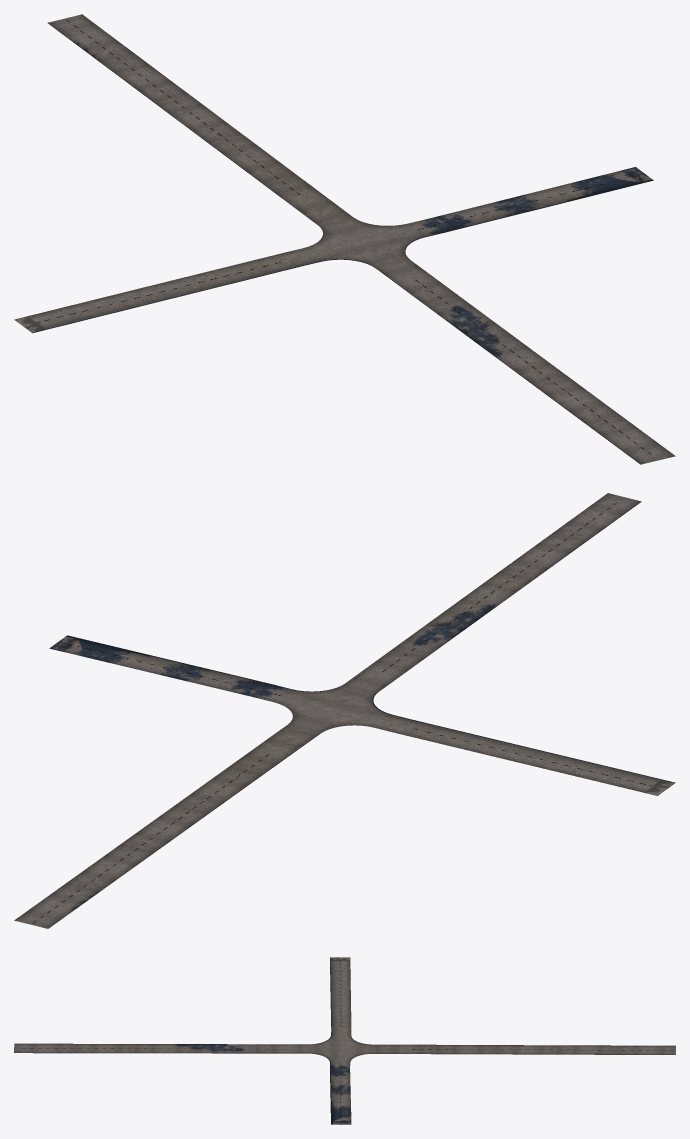
3 views of the same model, one above another, from view 1: azimuth 30°, elevation 25°; view 2: azimuth 150°, elevation 25°; view 3: azimuth 270°, elevation 25° (orthographic). The views are drawn at different scales.
Parts seen in each view (by area): view 1: road; view 2: road; view 3: road.
Part boxes in pixels (<box>): road: <box>14,14,675,464</box>; road: <box>14,493,675,928</box>; road: <box>14,957,675,1124</box>.
Bounding box in the file's own units: 98.53 × 0 × 165.
Materials: 1 (1 with a texture image).
